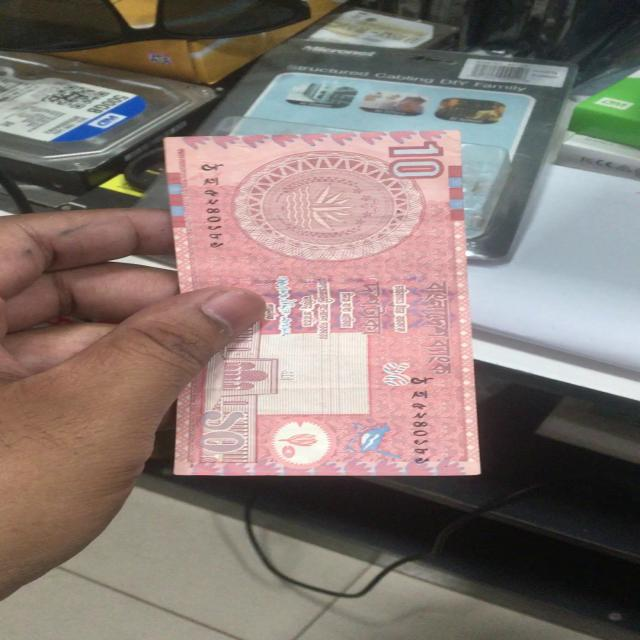Taka: (158, 128, 488, 480)
